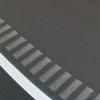Crosswalk: (6, 25, 79, 99)
